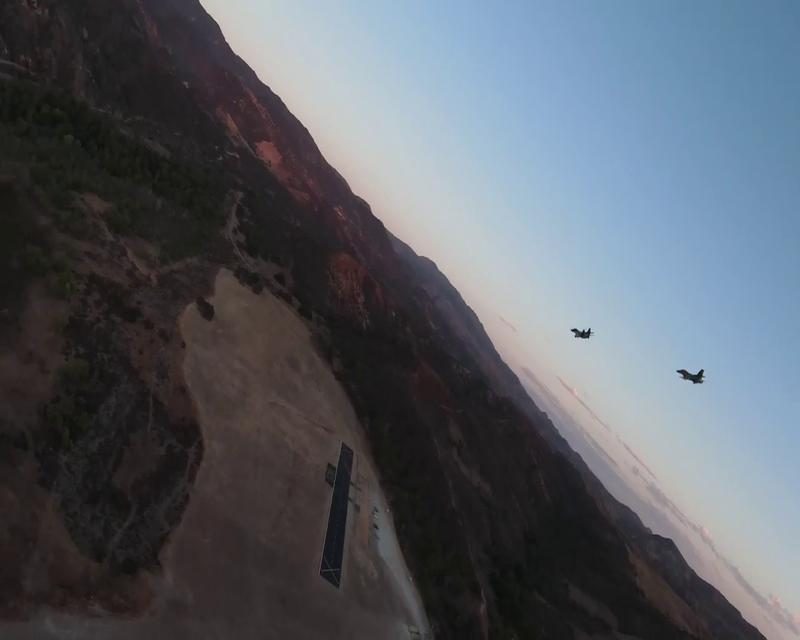UAV: (675, 367, 705, 384), (567, 324, 595, 340)
